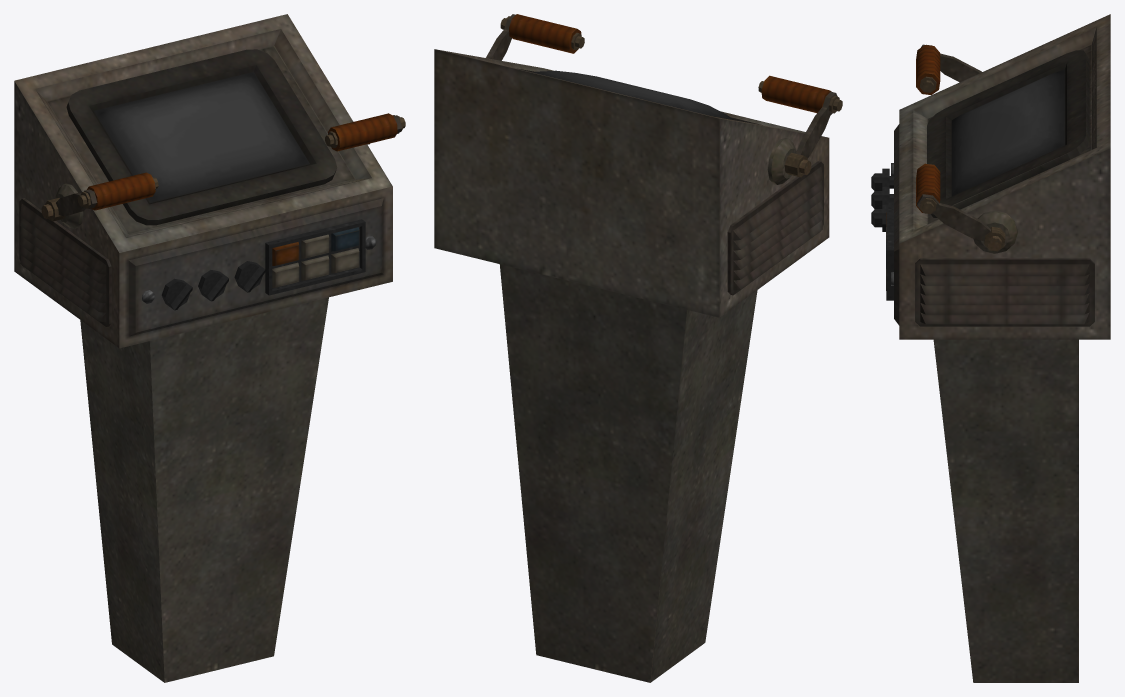
Rendered from control_panel_etx_1.obj.
The picture shows the model from 3 angles, left to right: view 1: azimuth 30°, elevation 25°; view 2: azimuth 150°, elevation 25°; view 3: azimuth 270°, elevation 25°; orthographic projection. The views are drawn at different scales.
Visible parts, largest first — view 1: control_panel_etx_1, control_panel_etx_1_round_screen, control_panel_etx_1_lever_child_1, control_panel_etx_1_lever_child_2, control_panel_etx_1_knob_child_2, control_panel_etx_1_knob_child, control_panel_etx_1_knob_child_1; view 2: control_panel_etx_1, control_panel_etx_1_lever_child_1, control_panel_etx_1_lever_child_2, control_panel_etx_1_round_screen; view 3: control_panel_etx_1, control_panel_etx_1_round_screen, control_panel_etx_1_lever_child_2, control_panel_etx_1_lever_child_1, control_panel_etx_1_knob_child.
Boxes of the visible parts, x1=… form: control_panel_etx_1: x1=14, y1=14, x2=392, y2=682; control_panel_etx_1_round_screen: x1=93, y1=71, x2=309, y2=202; control_panel_etx_1_lever_child_1: x1=41, y1=172, x2=158, y2=228; control_panel_etx_1_lever_child_2: x1=325, y1=113, x2=405, y2=151; control_panel_etx_1_knob_child_2: x1=234, y1=261, x2=265, y2=292; control_panel_etx_1_knob_child: x1=161, y1=278, x2=192, y2=310; control_panel_etx_1_knob_child_1: x1=198, y1=270, x2=228, y2=301; control_panel_etx_1: x1=434, y1=49, x2=829, y2=682; control_panel_etx_1_lever_child_1: x1=758, y1=75, x2=842, y2=184; control_panel_etx_1_lever_child_2: x1=486, y1=14, x2=584, y2=60; control_panel_etx_1_round_screen: x1=532, y1=70, x2=733, y2=119; control_panel_etx_1: x1=886, y1=14, x2=1110, y2=682; control_panel_etx_1_round_screen: x1=951, y1=69, x2=1065, y2=196; control_panel_etx_1_lever_child_2: x1=916, y1=163, x2=1017, y2=253; control_panel_etx_1_lever_child_1: x1=916, y1=44, x2=981, y2=94; control_panel_etx_1_knob_child: x1=871, y1=168, x2=893, y2=190.
Bounding box in the file's own units: 0.711 × 1.19 × 0.4485.
